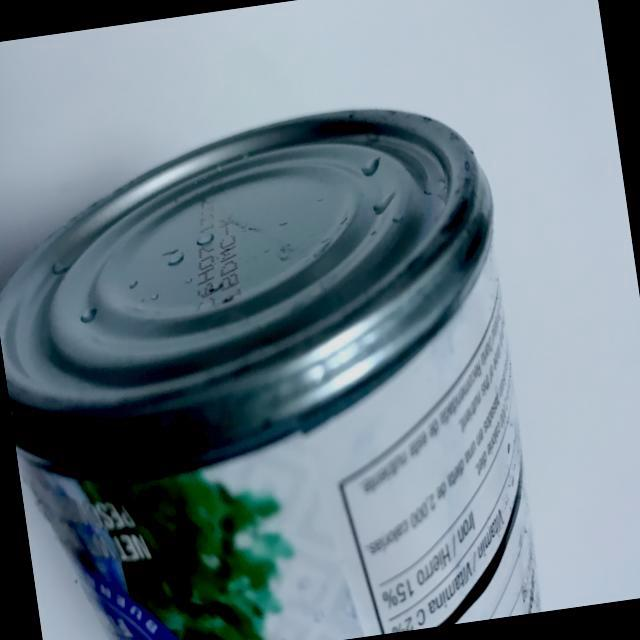metal: (0, 56, 598, 640)
